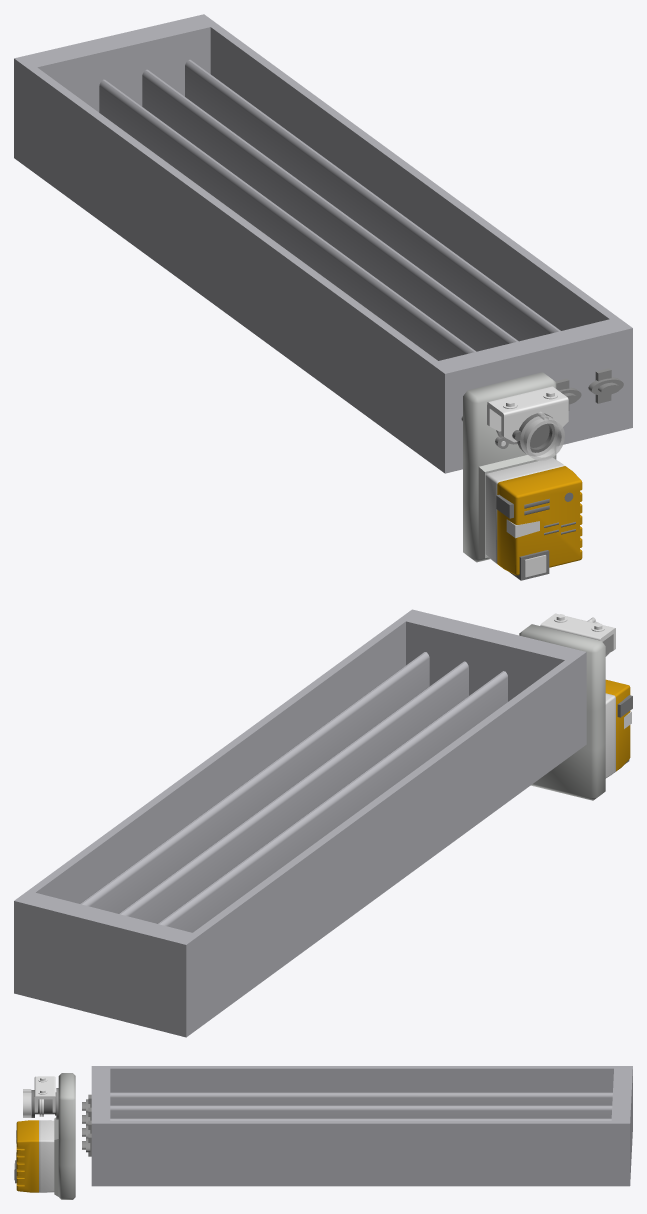
Rendered from DAMPER5.glb.
The picture shows the model from 3 angles, top to bottom: view 1: azimuth 30°, elevation 25°; view 2: azimuth 150°, elevation 25°; view 3: azimuth 270°, elevation 25°; orthographic projection. The views are drawn at different scales.
Visible parts, largest first — view 1: DAMPER BODY004, ACTUATOR2.003, DAMPER LEAF-019, DAMPER LEAF-017, DAMPER LEAF-018; view 2: DAMPER BODY004, DAMPER LEAF-017, DAMPER LEAF-019, DAMPER LEAF-018, ACTUATOR2.003; view 3: DAMPER BODY004, DAMPER LEAF-020, DAMPER LEAF-018, ACTUATOR2.003, DAMPER LEAF-017.
Part boxes in pixels (left/top/right/bottom): DAMPER BODY004: left=14, top=14, right=632, bottom=473; ACTUATOR2.003: left=463, top=372, right=582, bottom=580; DAMPER LEAF-019: left=185, top=59, right=623, bottom=403; DAMPER LEAF-017: left=142, top=69, right=581, bottom=410; DAMPER LEAF-018: left=99, top=79, right=476, bottom=360; DAMPER BODY004: left=14, top=609, right=586, bottom=1037; DAMPER LEAF-017: left=119, top=661, right=468, bottom=923; DAMPER LEAF-019: left=80, top=652, right=429, bottom=913; DAMPER LEAF-018: left=158, top=671, right=507, bottom=932; ACTUATOR2.003: left=519, top=613, right=632, bottom=800; DAMPER BODY004: left=91, top=1066, right=632, bottom=1186; DAMPER LEAF-020: left=82, top=1092, right=612, bottom=1112; DAMPER LEAF-018: left=82, top=1105, right=612, bottom=1125; ACTUATOR2.003: left=14, top=1073, right=75, bottom=1199; DAMPER LEAF-017: left=82, top=1118, right=611, bottom=1138.
Size of the model in its own units: 0.3014 by 0.2651 by 1.37.
